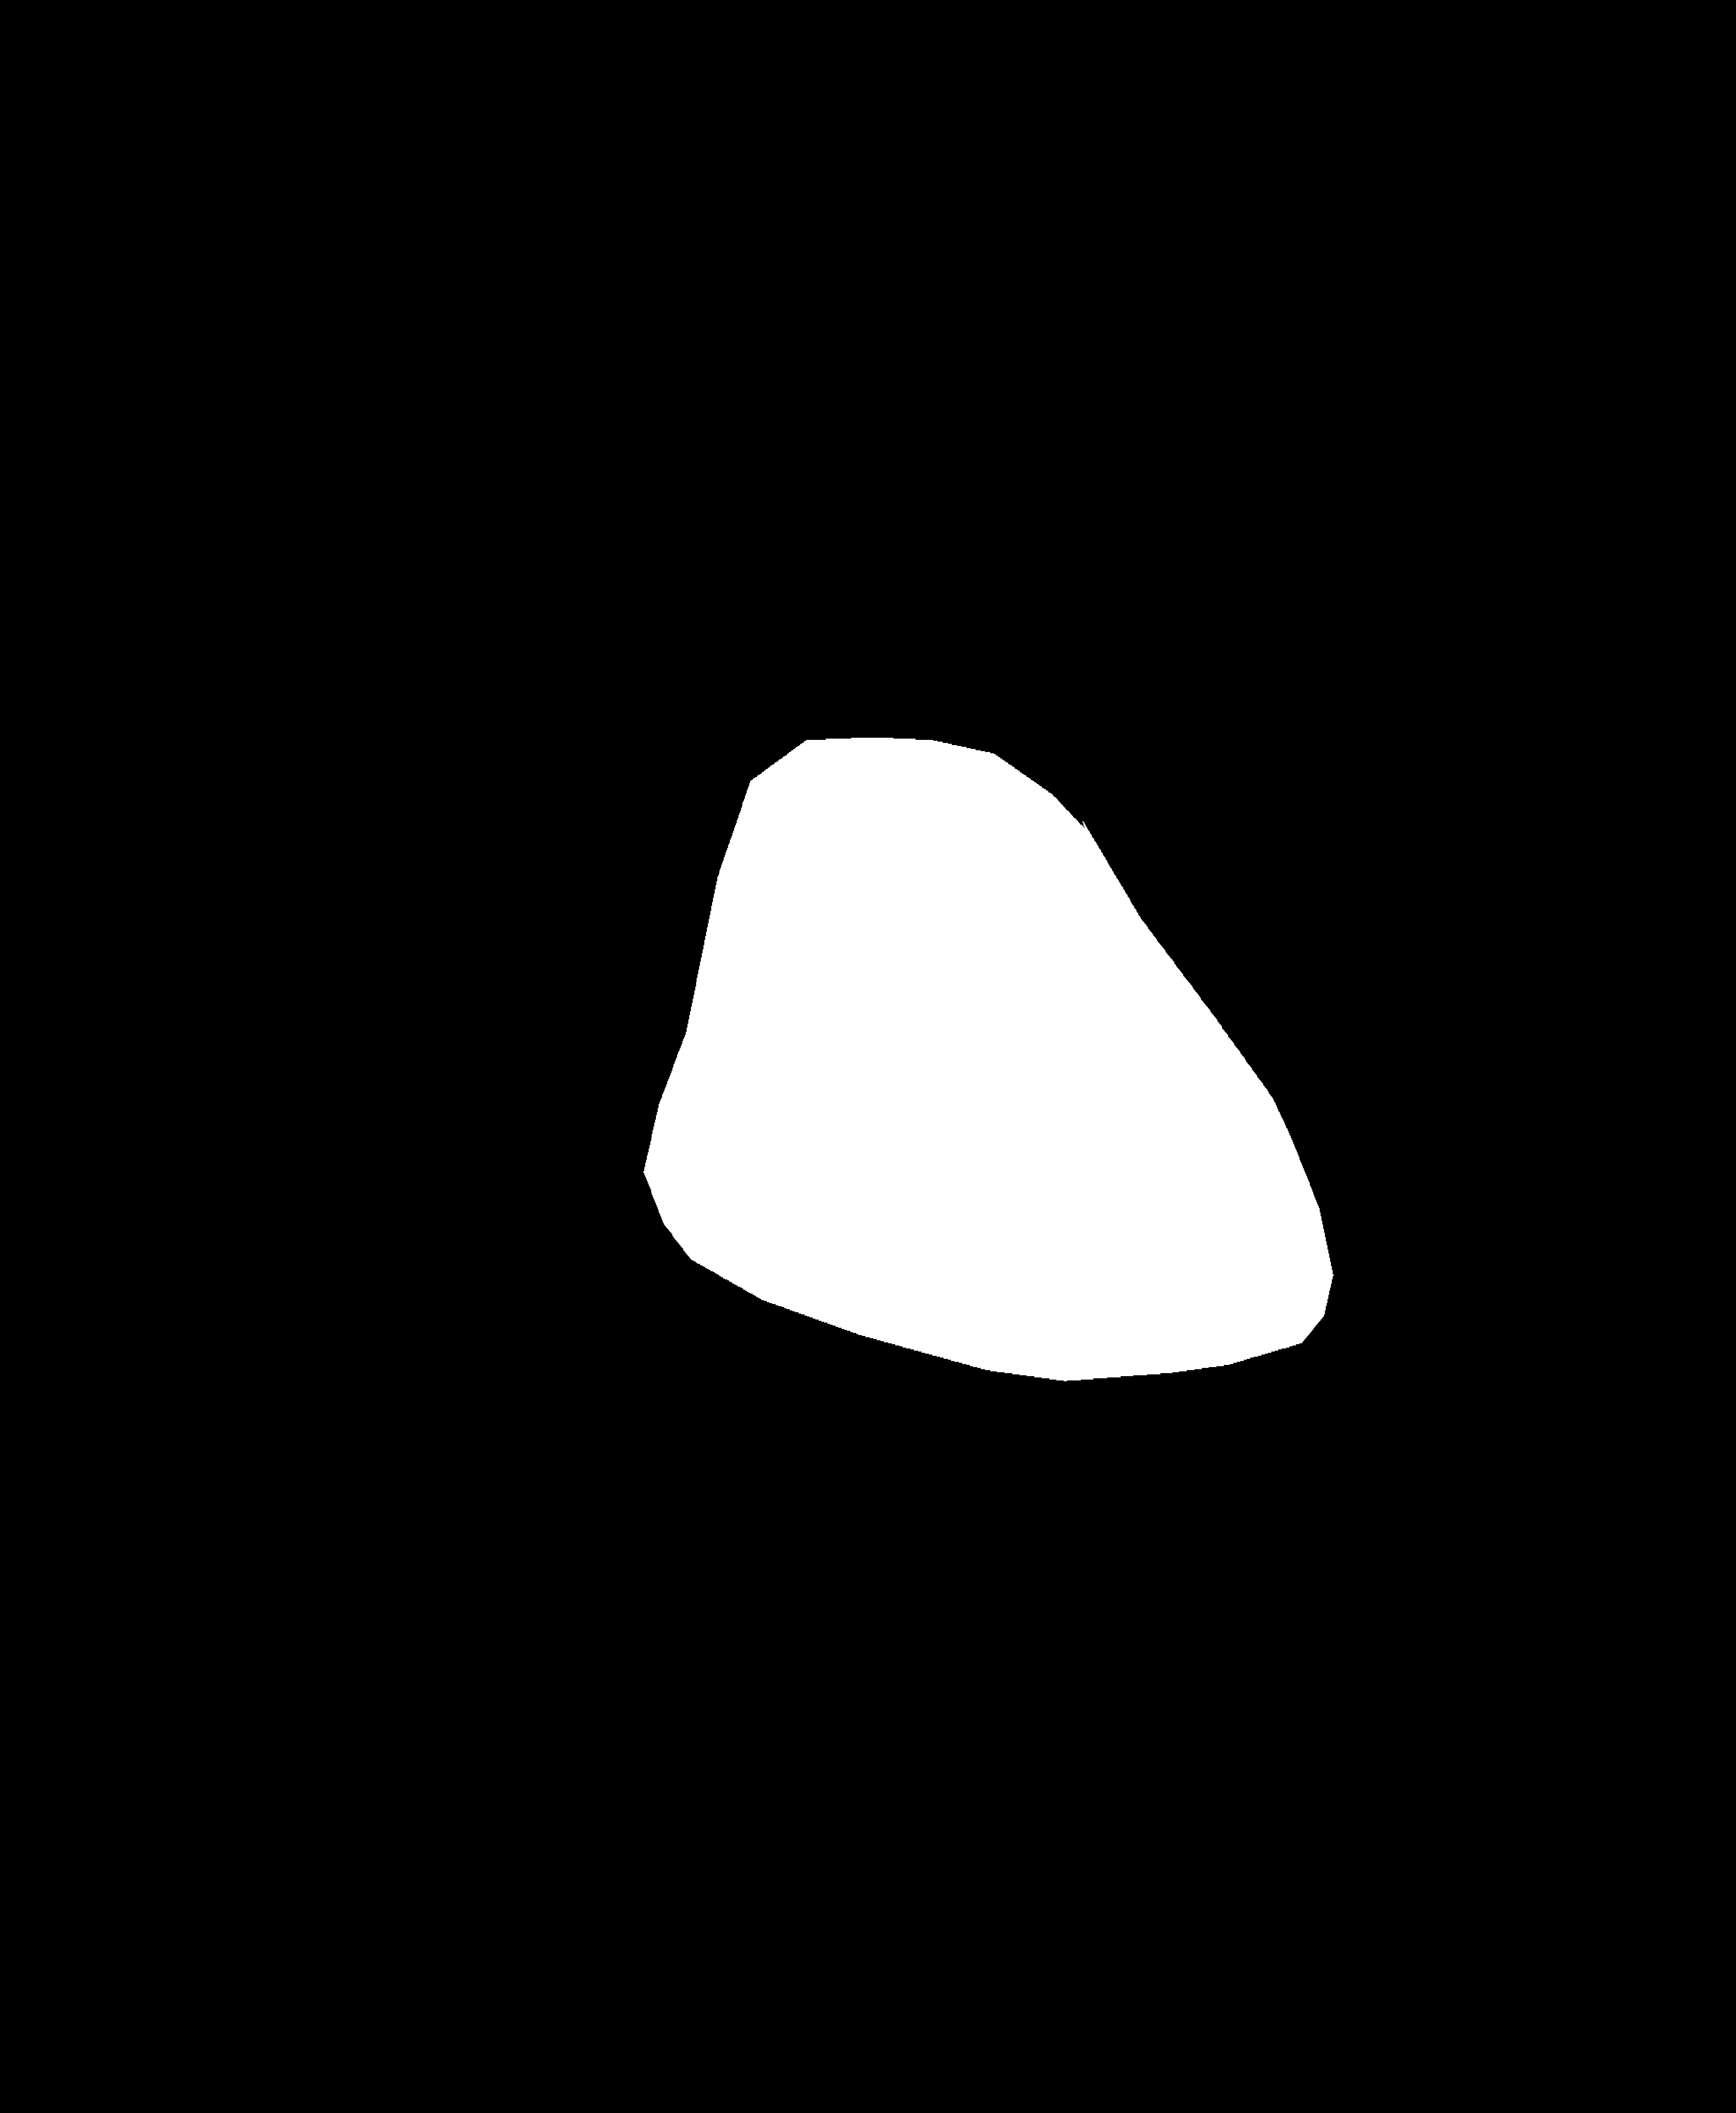heart: (648, 960, 1332, 1362)
left_lung: (240, 195, 792, 1509)
right_lung: (936, 160, 1536, 1520)
